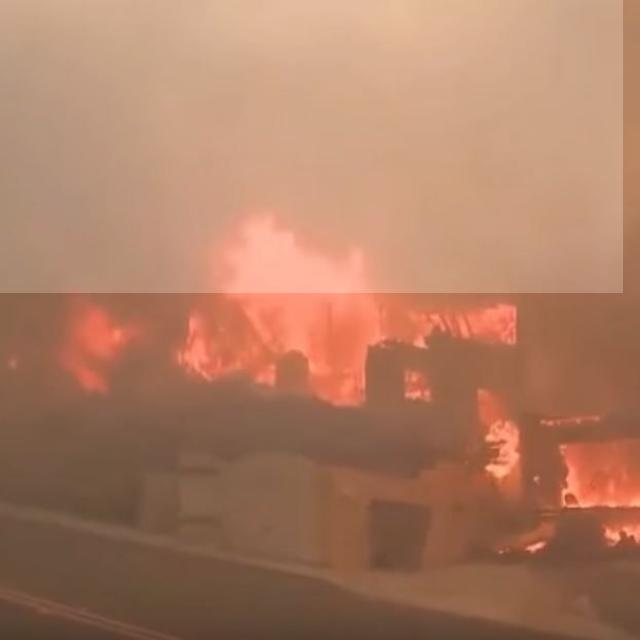Smoke: (0, 0, 623, 293)
